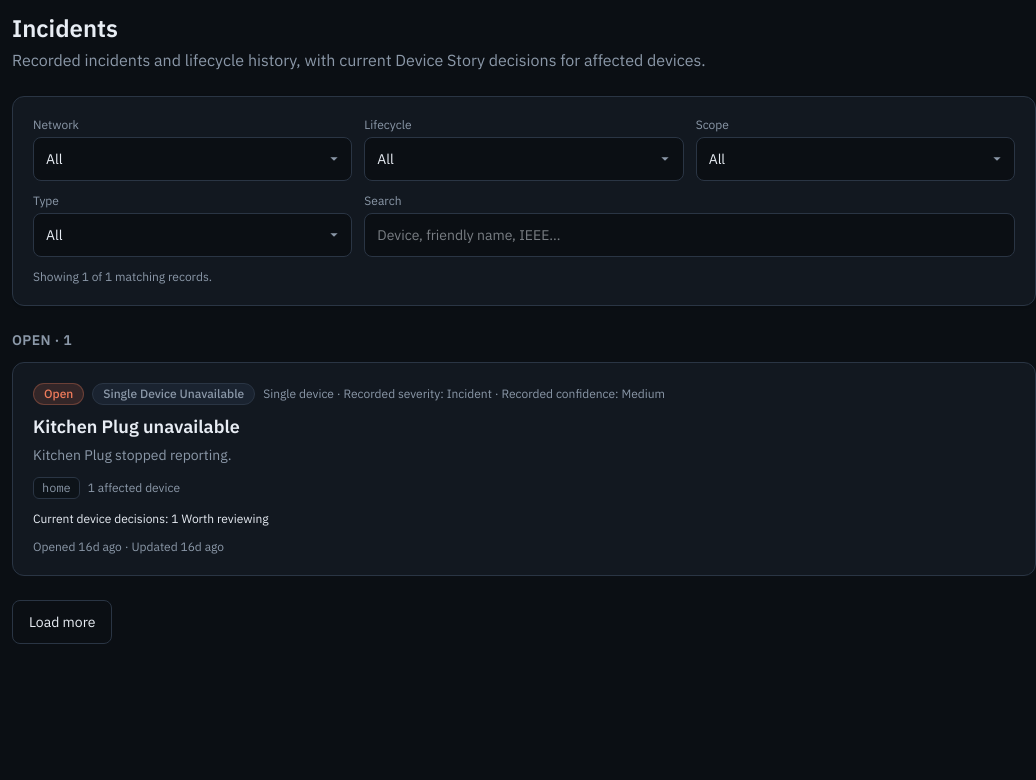
IncidentsPage list › keeps Load more when local filters hide all loaded items
Expected: the heading "Kitchen Plug unavailable" is shown, [33, 415, 240, 438]
Expected: the button "Load more" is shown, [12, 600, 112, 644]
Type "zzzz-no-match" into the search field with placeholder "Device, friendly name, IEEE…" at (690, 235), box [364, 213, 1015, 257]
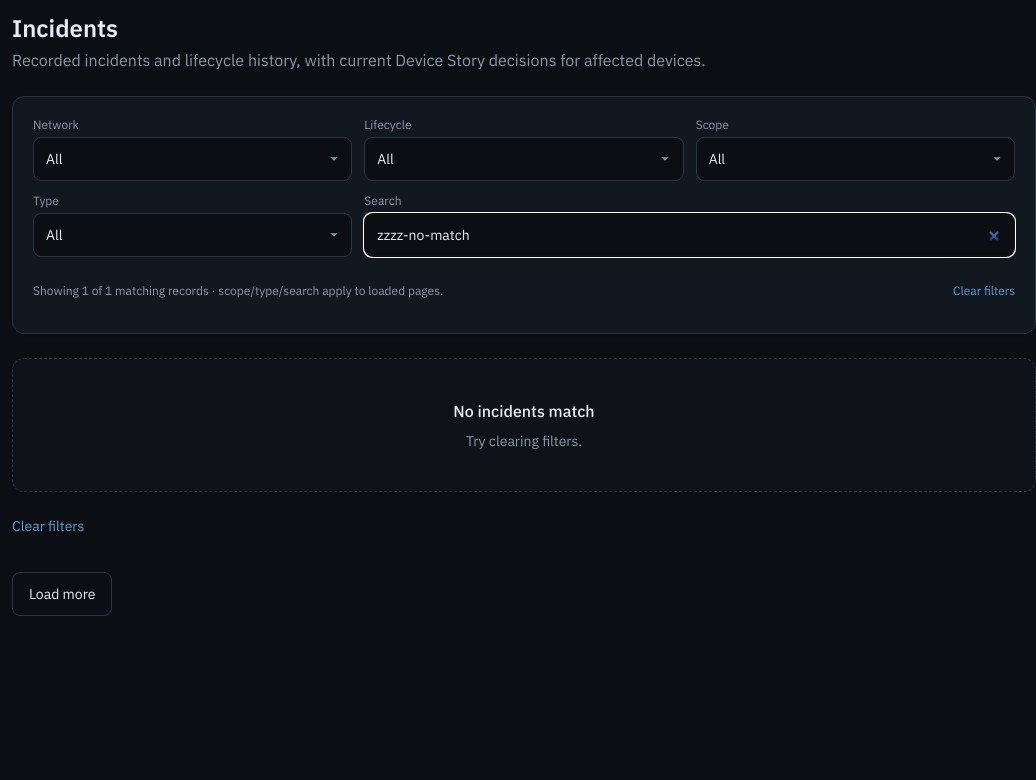
Expected: the button "Load more" is shown, [12, 572, 112, 616]
Expected: the text "No incidents match" is shown, [453, 401, 595, 421]
